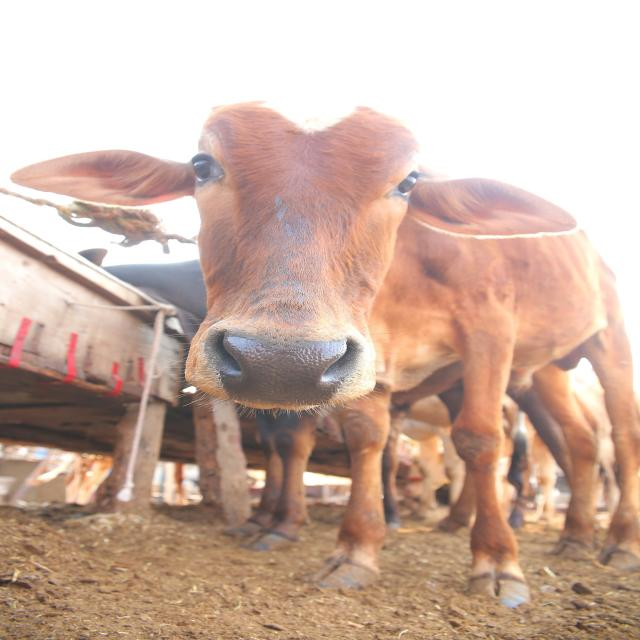muzzles: (194, 323, 375, 412)
